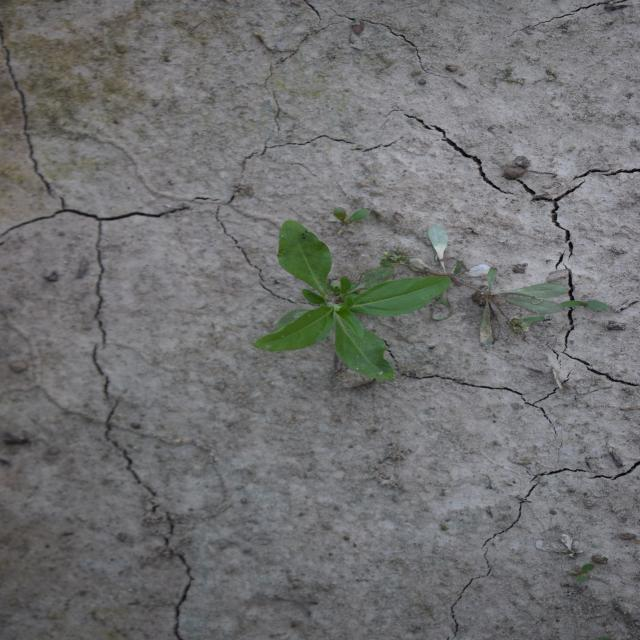Carpetweed: (379, 222, 572, 348)
Eclipta: (252, 218, 452, 383)
